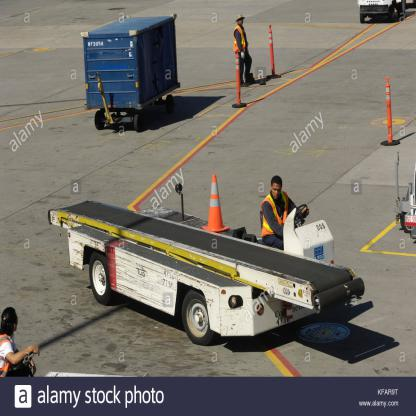baggagetruck: (39, 189, 382, 359)
